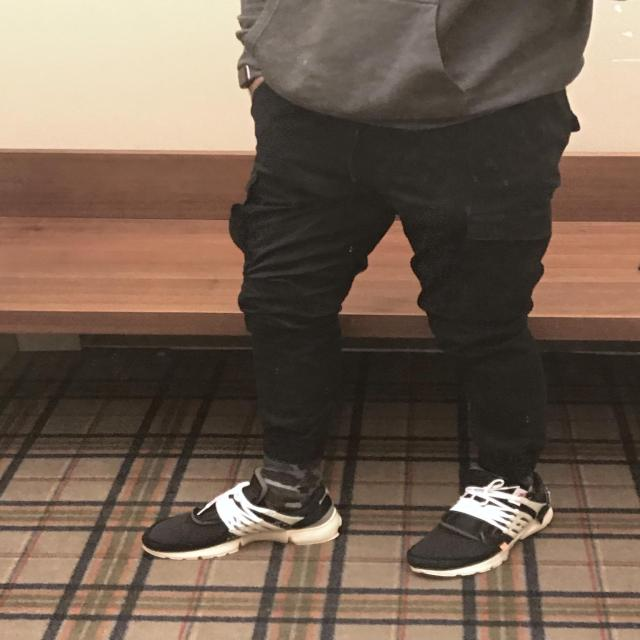shoe: (403, 458, 557, 584), (121, 481, 359, 561)
